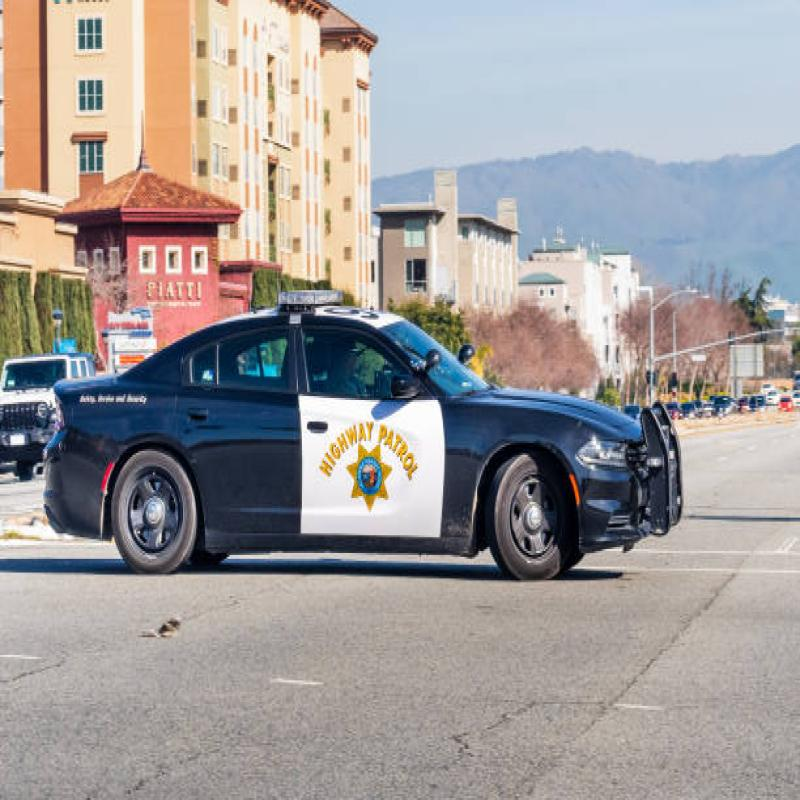AmbulanceSiren: (277, 272, 349, 314)
car: (50, 305, 687, 614)
